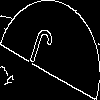J: (25, 25, 55, 78)
